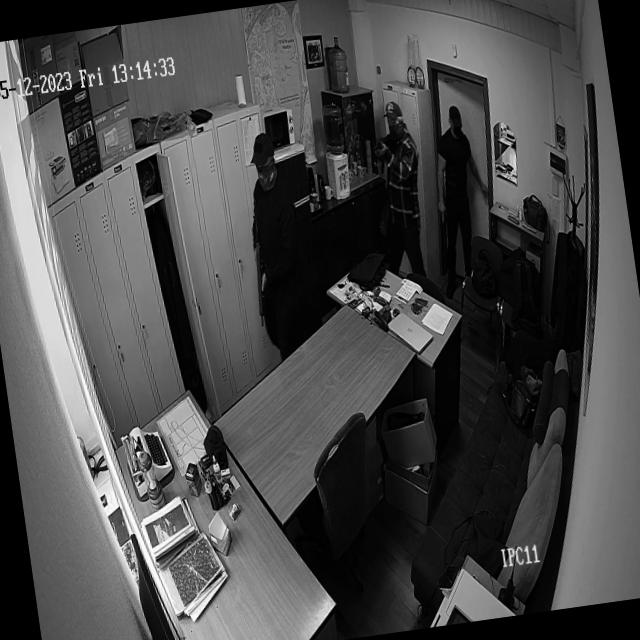gun: (243, 199, 275, 327), (373, 136, 390, 177), (441, 209, 450, 232)
person with a gun: (238, 132, 310, 347), (426, 105, 489, 276), (372, 104, 432, 276)
